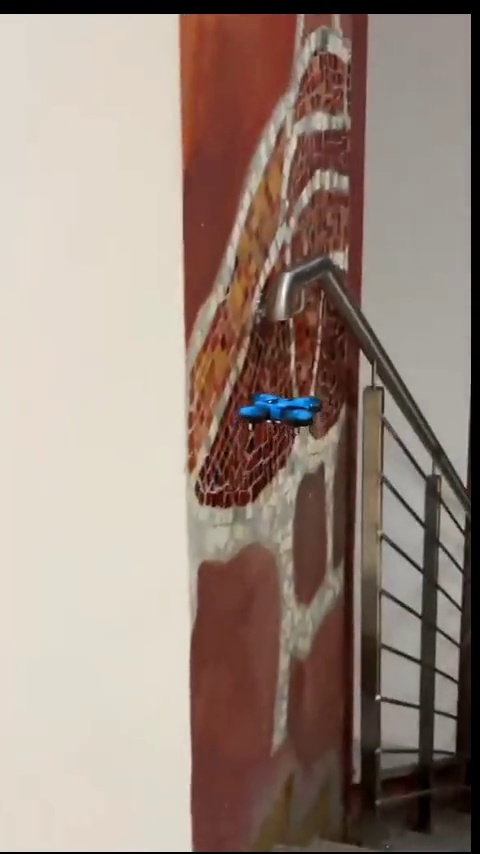drone: (236, 391, 324, 433)
